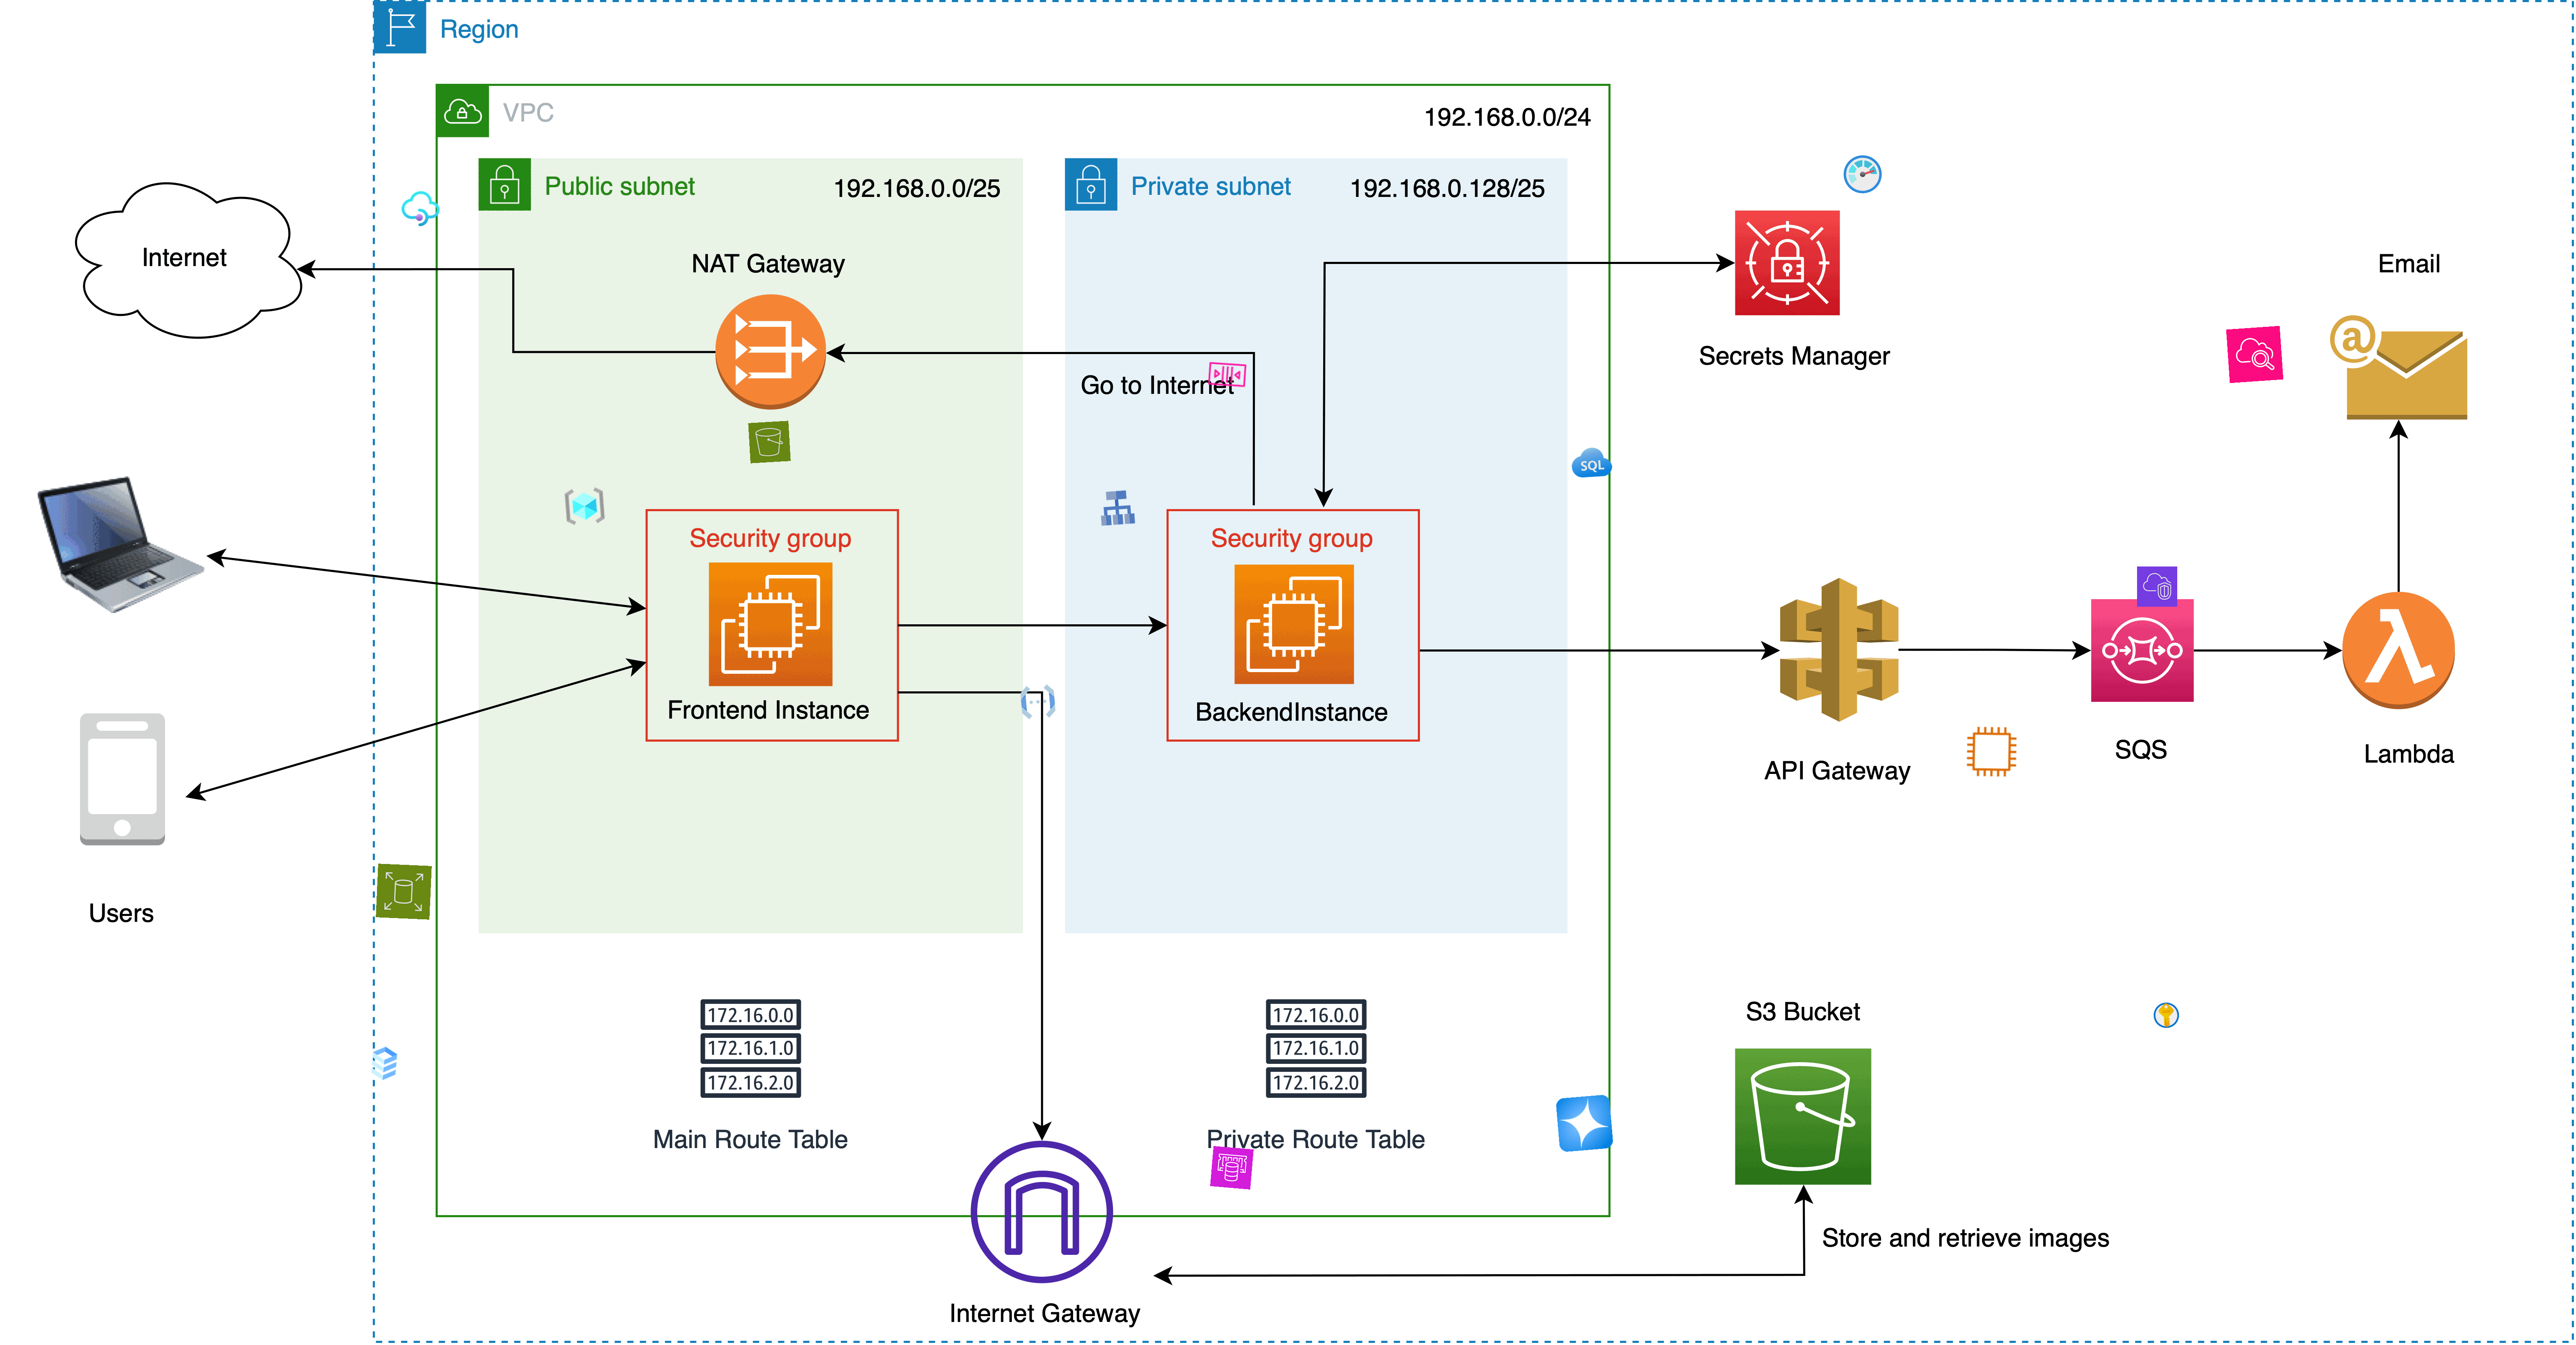aws_amazon_cloudwatch: (2225, 326, 2283, 384)
aws_amazon_elastic_block_store: (377, 864, 431, 921)
aws_amazon_elasticache: (1210, 1146, 1254, 1190)
aws_amazon_simple_storage_service: (748, 421, 791, 464)
aws_amazon_virtual_private_cloud: (2136, 566, 2177, 607)
aws_ec2_instance: (1964, 724, 2019, 779)
aws_simple_queue_service_queue: (1206, 353, 1249, 395)
azure_api_management_services: (400, 188, 441, 230)
azure_key_vaults: (2152, 1001, 2181, 1030)
azure_monitor: (1842, 153, 1884, 196)
azure_openai: (1555, 1094, 1613, 1152)
azure_resource_groups: (562, 484, 607, 528)
azure_sql: (1571, 442, 1613, 484)
gcp_cloud_functions: (1015, 680, 1060, 723)
gcp_cloud_load_balancing: (1095, 486, 1138, 530)
gcp_cloud_sql: (363, 1042, 405, 1086)
